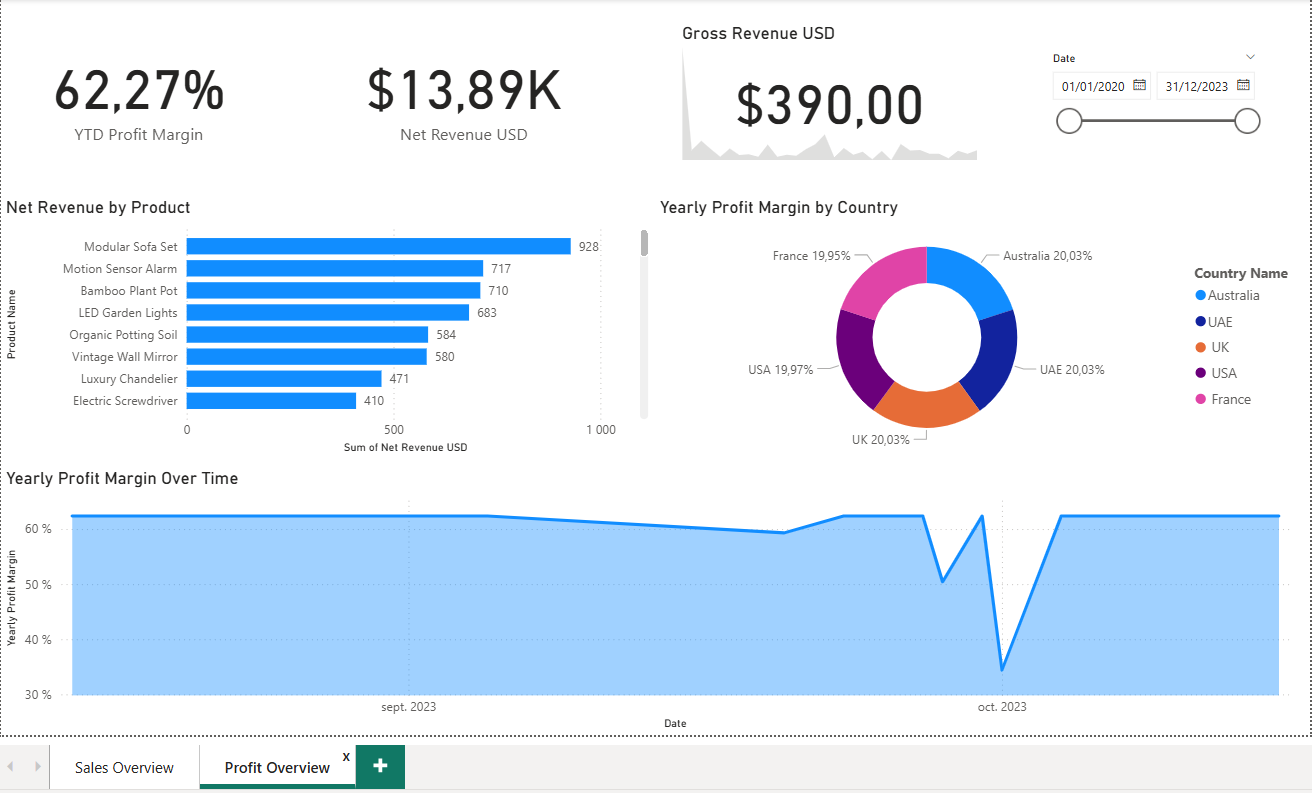

This screenshot's page, from the dashboard's own definition file:
{"tool":"powerbi","page":{"name":"Profit Overview","canvas":[1280,720],"ordinal":1},"visuals":[{"type":"clusteredBarChart","title":"Net Revenue by Product","fields":{"Y":["Sum(Sales in USD.Net Revenue USD)"],"Category":["Sales in USD.Product Name"]},"box":[0,193.2,638.3,256.8],"z":0},{"type":"donutChart","title":"Yearly Profit Margin by Country","fields":{"Y":["Sales in USD.Yearly Profit Margin"],"Category":["Sales in USD.Country Name"]},"box":[639.5,193.2,640.8,256.8],"z":1000},{"type":"areaChart","title":"Yearly Profit Margin Over Time","fields":{"Y":["Sales in USD.Yearly Profit Margin"],"Category":["Calendar.Date"]},"box":[0,458.6,1280.3,261.7],"z":2000},{"type":"card","fields":{"Values":["Sales in USD.YTD Profit"]},"box":[1.2,23.2,267.8,139.4],"z":3000},{"type":"card","fields":{"Values":["Sum(Sales in USD.Net Revenue USD)"]},"box":[319.2,23.2,267.8,139.4],"z":4000},{"type":"kpi","title":"Gross Revenue USD","fields":{"Indicator":["Sum(Sales in USD.Gross Revenue USD)"],"TrendLine":["Calendar.Date"]},"box":[661.6,23.2,298.4,139.4],"z":5000},{"type":"slicer","fields":{"Values":["Calendar.Date"]},"box":[1016.2,46.5,223.8,94.2],"z":6000}]}

Visuals, with their boxes on the page's 1280x720 design canvas (x1, y1, x2, y2). These are canvas units, not pixel positions in the 1312x793 screenshot, which may show the page scaled, cropped or inside an application window:
"Net Revenue by Product" clusteredBarChart: 0/193/638/450
"Yearly Profit Margin by Country" donutChart: 640/193/1280/450
"Yearly Profit Margin Over Time" areaChart: 0/459/1280/720
card - Sales in USD.YTD Profit: 1/23/269/163
card - Sum(Sales in USD.Net Revenue USD): 319/23/587/163
"Gross Revenue USD" kpi: 662/23/960/163
slicer - Calendar.Date: 1016/46/1240/141
